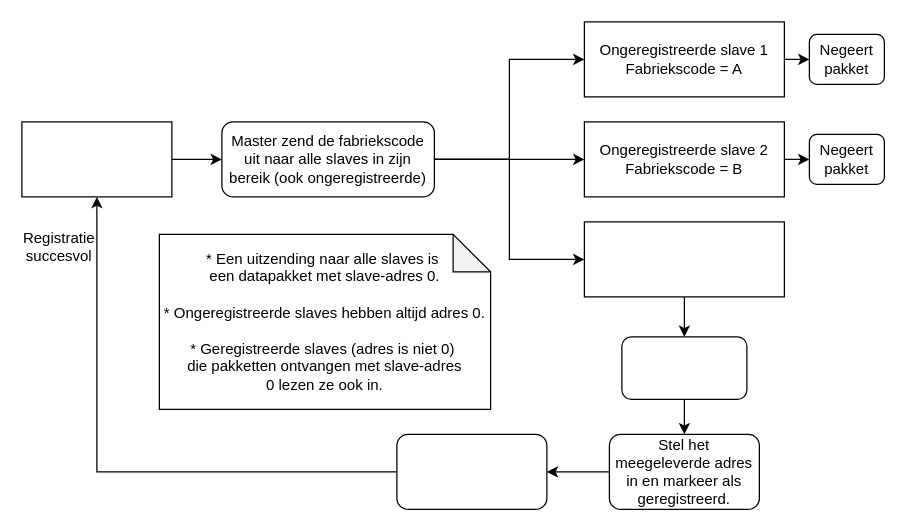
The diagram is 906 pixels wide and 531 high, and some of its shapes have lost their labels. The centre of each missing label's shape, as x and y in pixels:
"Antwoord met apparaat-informatie." goes at (x=471, y=471).
"Fabriekscode is hetzelfde!" goes at (x=684, y=367).
"Master wilt verbinden met slave met fabriekscode X" goes at (x=96, y=159).
"Ongeregistreerde slave 1 Fabriekscode = X" goes at (x=683, y=259).
